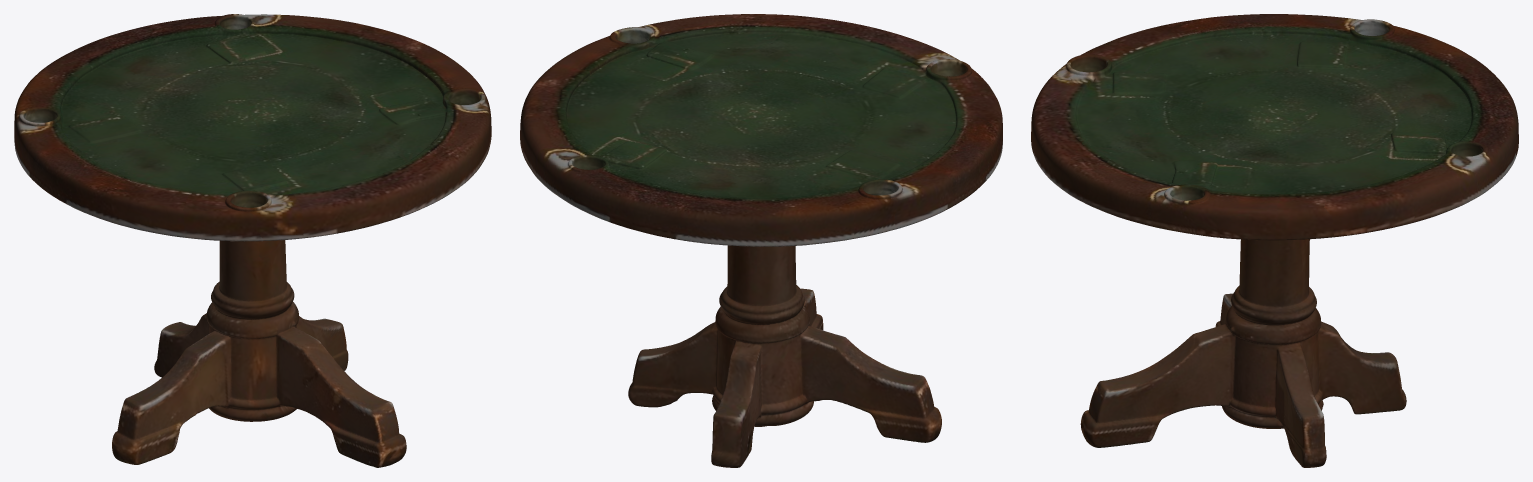
The model's file is MesaLiar.fbx.
3 renders of one model, left to right at view 1: azimuth 30°, elevation 25°; view 2: azimuth 150°, elevation 25°; view 3: azimuth 270°, elevation 25°, orthographic. The views are drawn at different scales.
Parts seen in each view (by area): view 1: tripo_node_be0c18b1; view 2: tripo_node_be0c18b1; view 3: tripo_node_be0c18b1.
Part boxes in pixels (box(x1,y1,x2,y2)): tripo_node_be0c18b1: box(14, 14, 491, 467); tripo_node_be0c18b1: box(520, 14, 1002, 467); tripo_node_be0c18b1: box(1031, 14, 1518, 467).
Size of the model in its own units: 1 by 0.7009 by 0.9996.
Materials: 1 (1 with a texture image).
